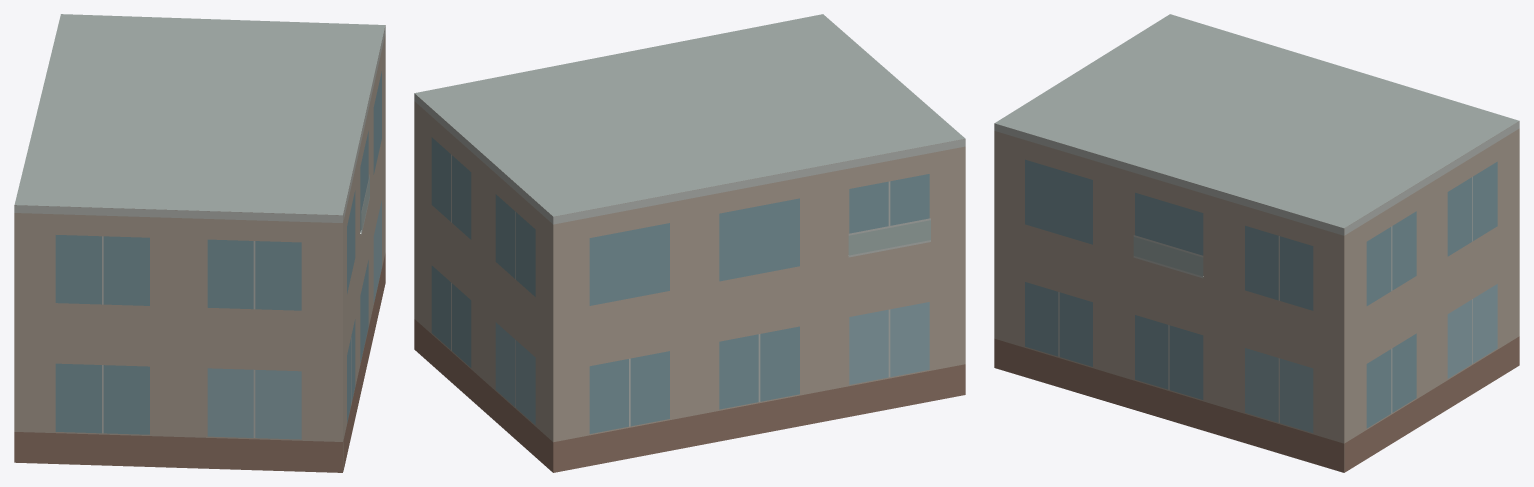
Rendered from survey-upis-32836961.glb.
3 renders of one model, left to right at view 1: azimuth 30°, elevation 25°; view 2: azimuth 150°, elevation 25°; view 3: azimuth 270°, elevation 25°, orthographic. The views are drawn at different scales.
Visible parts, largest first — view 1: survey-upis-32836961.tmp; view 2: survey-upis-32836961.tmp; view 3: survey-upis-32836961.tmp.
Part boxes in pixels (x1=…): survey-upis-32836961.tmp: x1=14, y1=14, x2=385, y2=472; survey-upis-32836961.tmp: x1=414, y1=14, x2=965, y2=472; survey-upis-32836961.tmp: x1=994, y1=14, x2=1519, y2=472.
Bounding box in the file's own units: 14.95 × 7.95 × 15.49.
